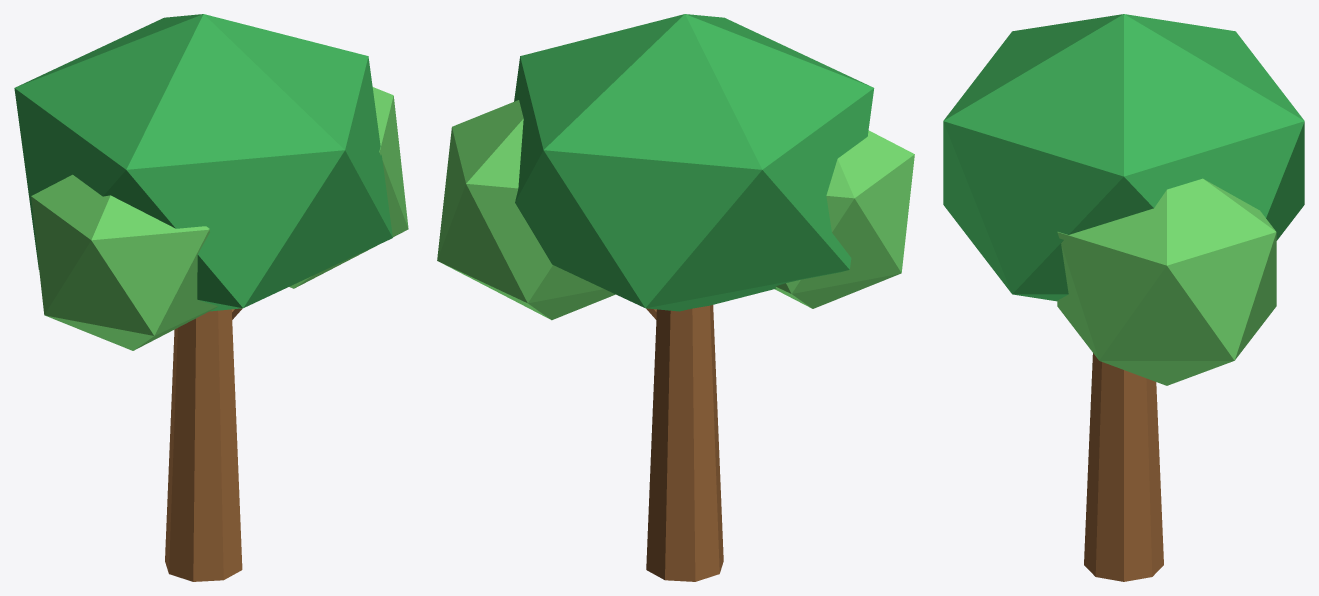
The model's file is ENV_Tree.glb.
3 views of the same model, side by side, from view 1: azimuth 30°, elevation 25°; view 2: azimuth 150°, elevation 25°; view 3: azimuth 270°, elevation 25° (orthographic).
Parts seen in each view (by area): view 1: Crown, CrownC, Trunk, CrownB; view 2: Crown, Trunk, CrownB, CrownC; view 3: Crown, CrownB, Trunk.
Boxes of the visible parts, x1,y1,x2,y2 form: Crown: [14, 14, 392, 311]; CrownC: [31, 174, 217, 350]; Trunk: [165, 309, 242, 581]; CrownB: [289, 87, 408, 288]; Crown: [514, 14, 874, 311]; Trunk: [646, 305, 723, 581]; CrownB: [437, 100, 615, 320]; CrownC: [774, 130, 914, 308]; Crown: [943, 14, 1304, 301]; CrownB: [1057, 178, 1276, 385]; Trunk: [1084, 353, 1163, 581].
Bounding box in the file's own units: 3.22 × 4.25 × 2.53.
